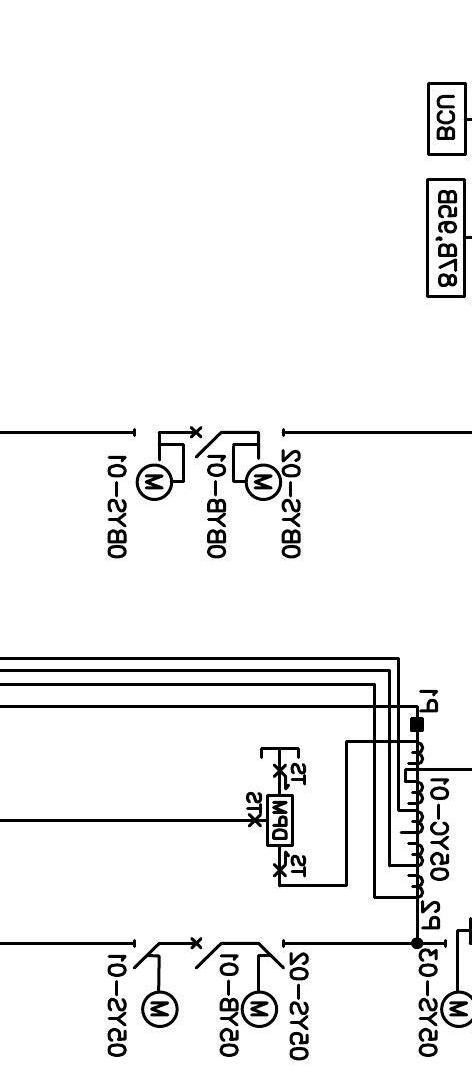115_1way_ds_w_motor: (133, 938, 180, 1029), (240, 938, 286, 1029), (232, 428, 286, 502), (132, 427, 185, 502)
115_breaker: (189, 425, 223, 459), (190, 937, 223, 970)
BCU: (426, 81, 468, 157)
DPM: (266, 793, 294, 847)
